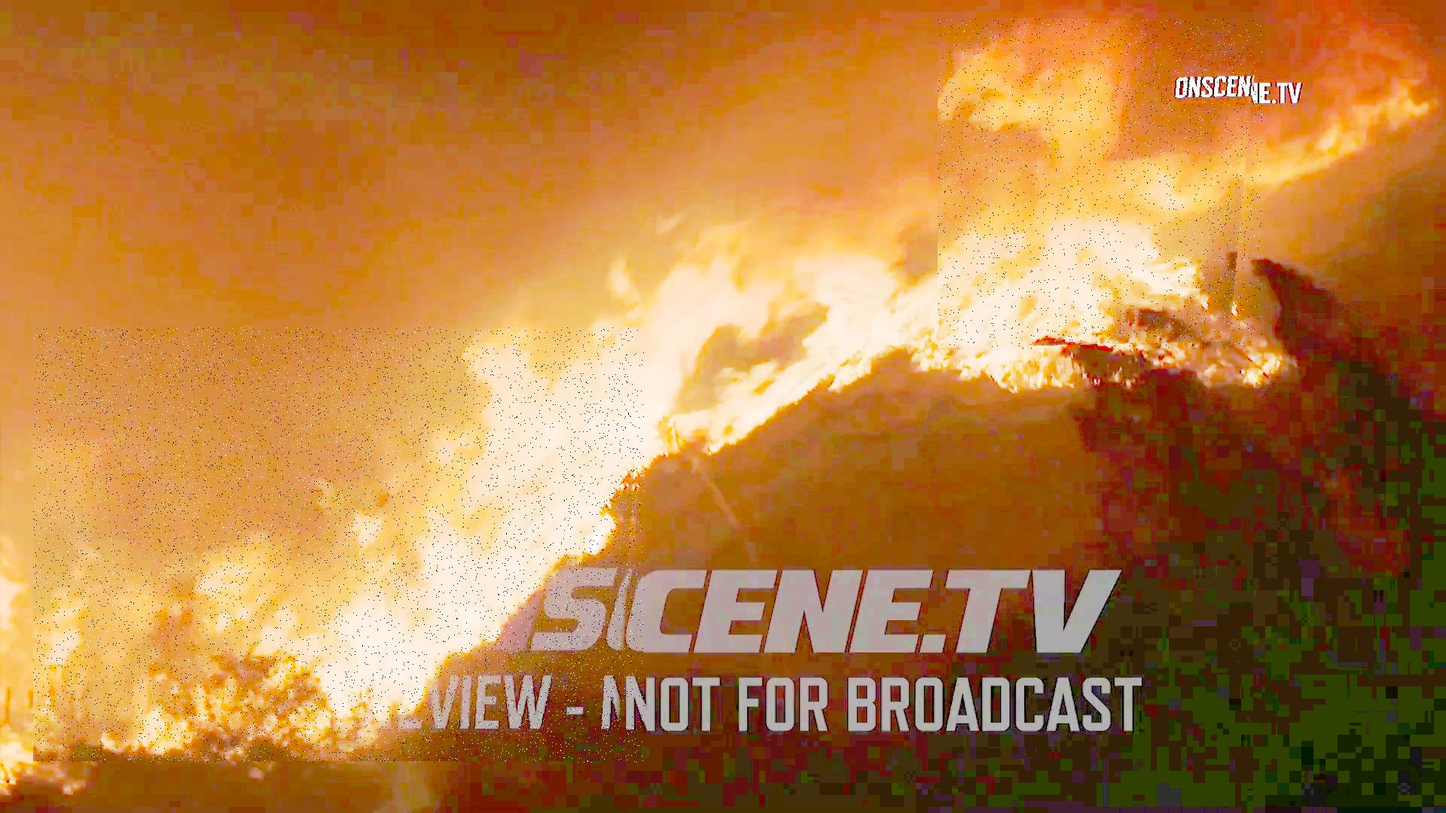fire: (34, 328, 645, 763), (938, 19, 1263, 349)
